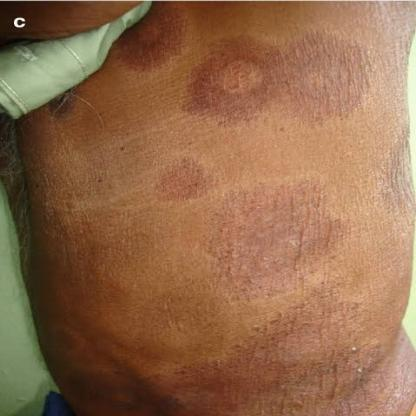Hansen-s Disease-Leprosy: (222, 176, 358, 306), (189, 30, 363, 125)
